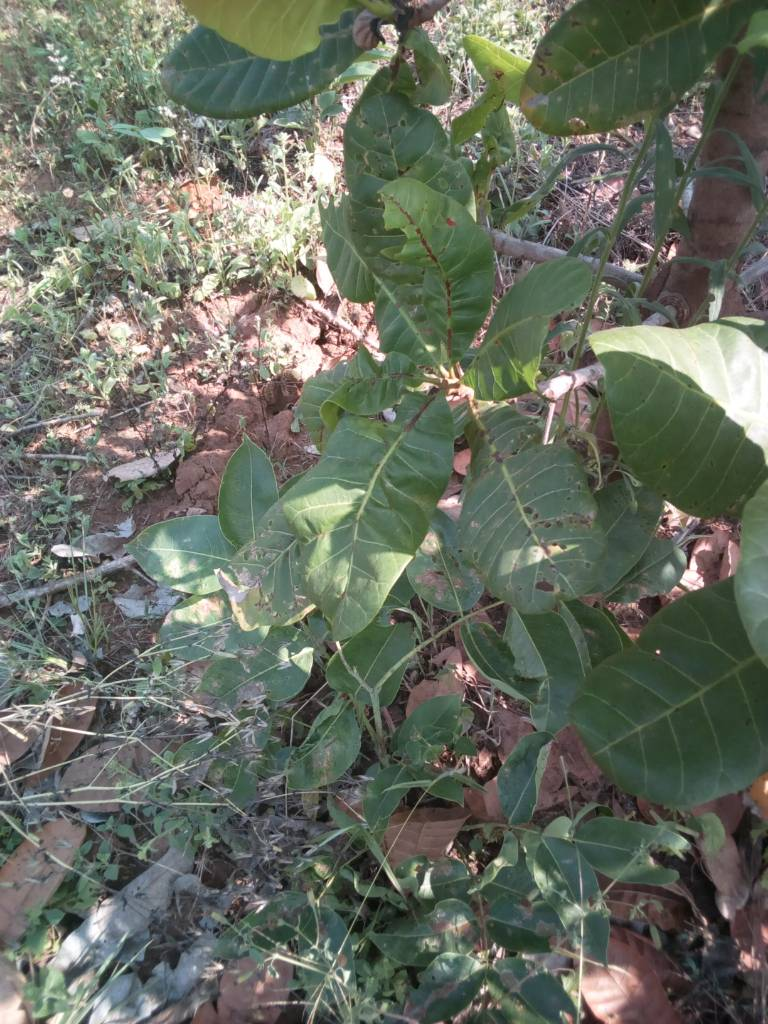Anthracnose: (507, 1, 744, 138), (340, 78, 488, 288), (455, 410, 597, 611), (369, 174, 490, 377)
